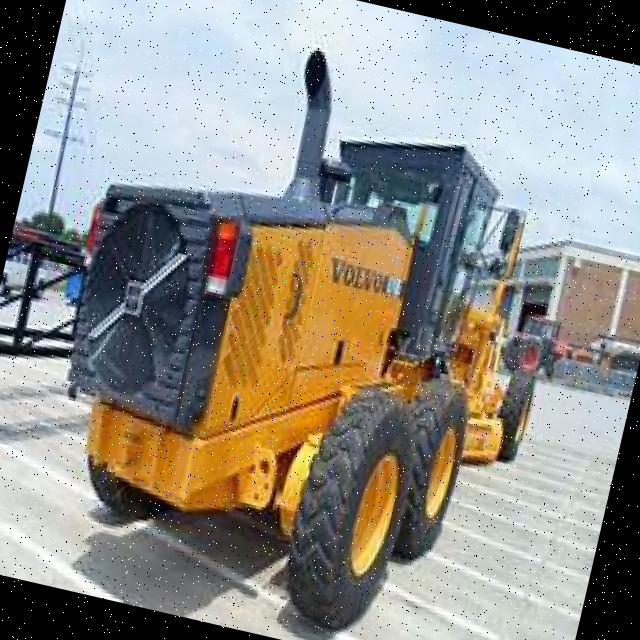Grader: (23, 15, 640, 640)
